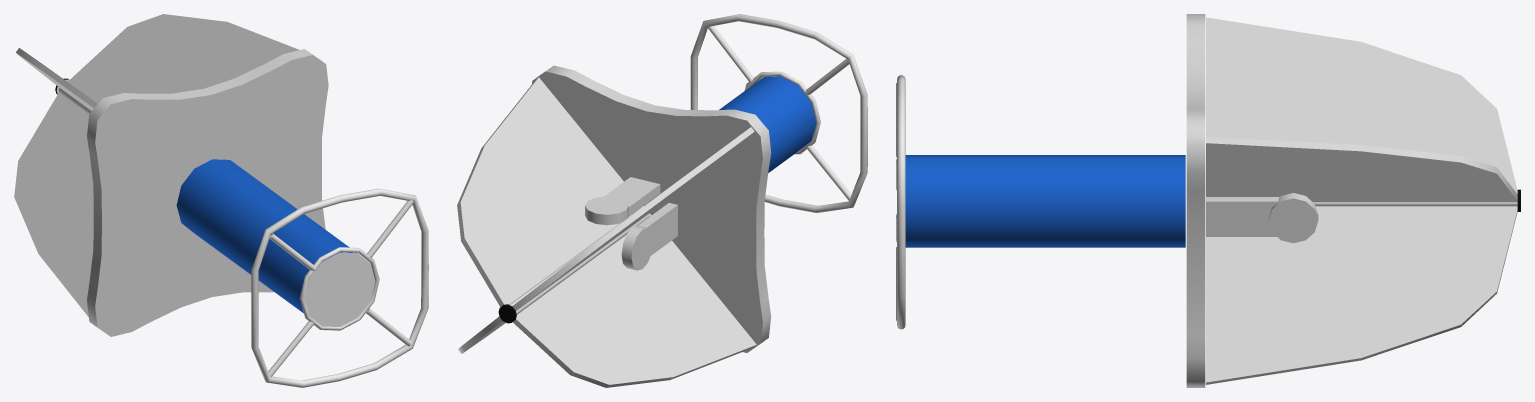
The picture shows the model from 3 angles, left to right: view 1: azimuth 30°, elevation 25°; view 2: azimuth 150°, elevation 25°; view 3: azimuth 270°, elevation 25°; orthographic projection. The views are drawn at different scales.
Visible parts, largest first — view 1: Circle.001; view 2: Circle.001; view 3: Circle.001.
Part boxes in pixels (bbox=[...]): Circle.001: bbox=[14, 14, 428, 387]; Circle.001: bbox=[457, 14, 867, 387]; Circle.001: bbox=[896, 14, 1520, 387].
Size of the model in its own units: 80.73 by 76.95 by 166.
